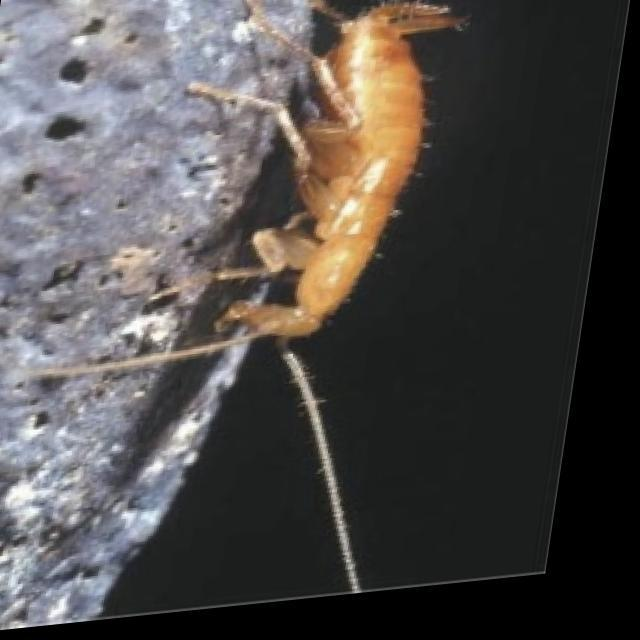cockroach: (205, 0, 436, 392)
